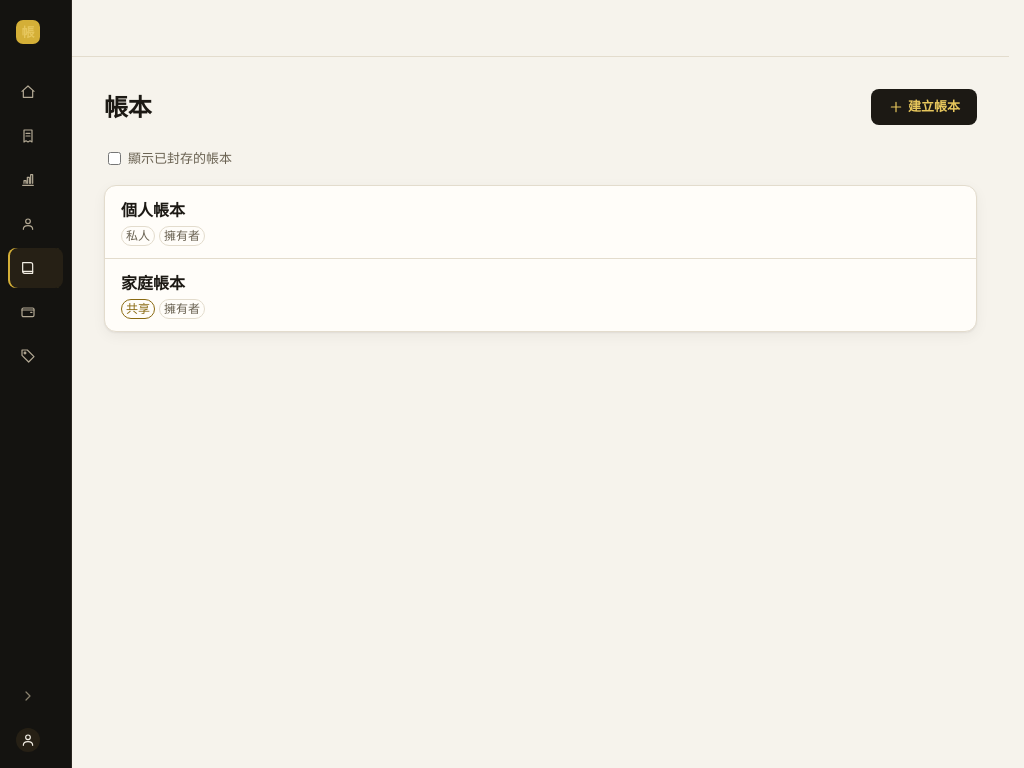
Test case: Ledgers page › keeps the ledger and the dialog when a participant cannot be added
Expected: the link "個人帳本" is shown, x1=121 y1=198 x2=185 y2=220
Click the button "建立帳本": (924, 107) x1=871 y1=89 x2=977 y2=125
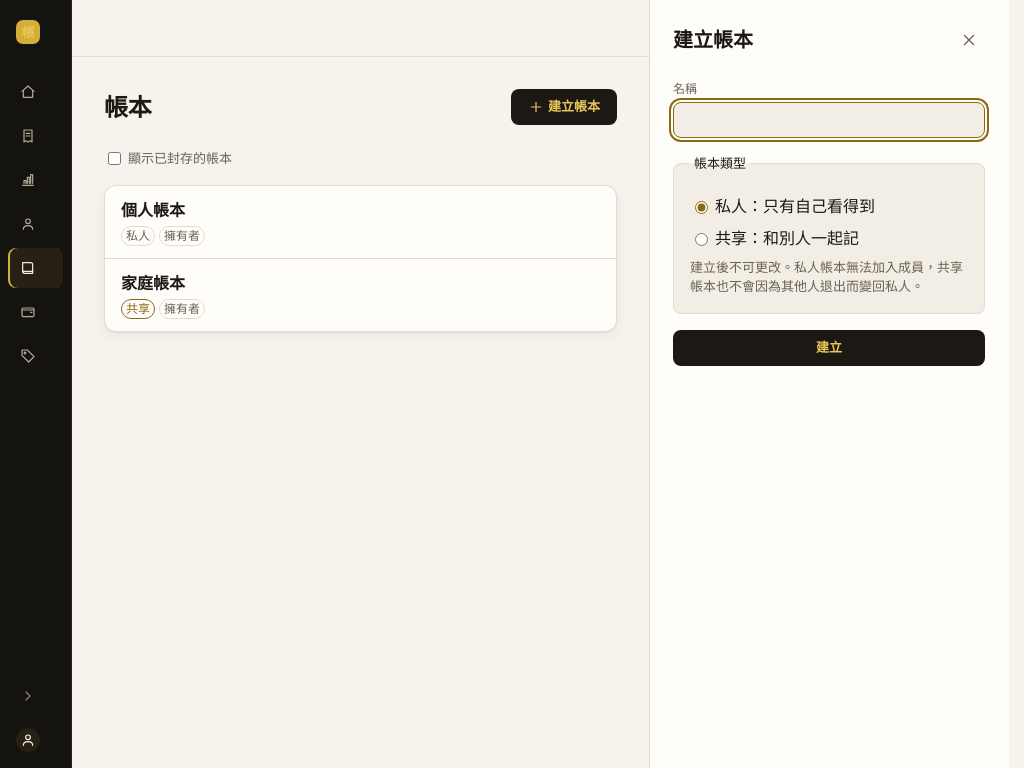
In the field labelled "名稱": (829, 120) x1=673 y1=102 x2=985 y2=138, type "家庭"
Click the radio button labelled "共享：和別人一起記": (702, 239) x1=695 y1=232 x2=708 y2=246
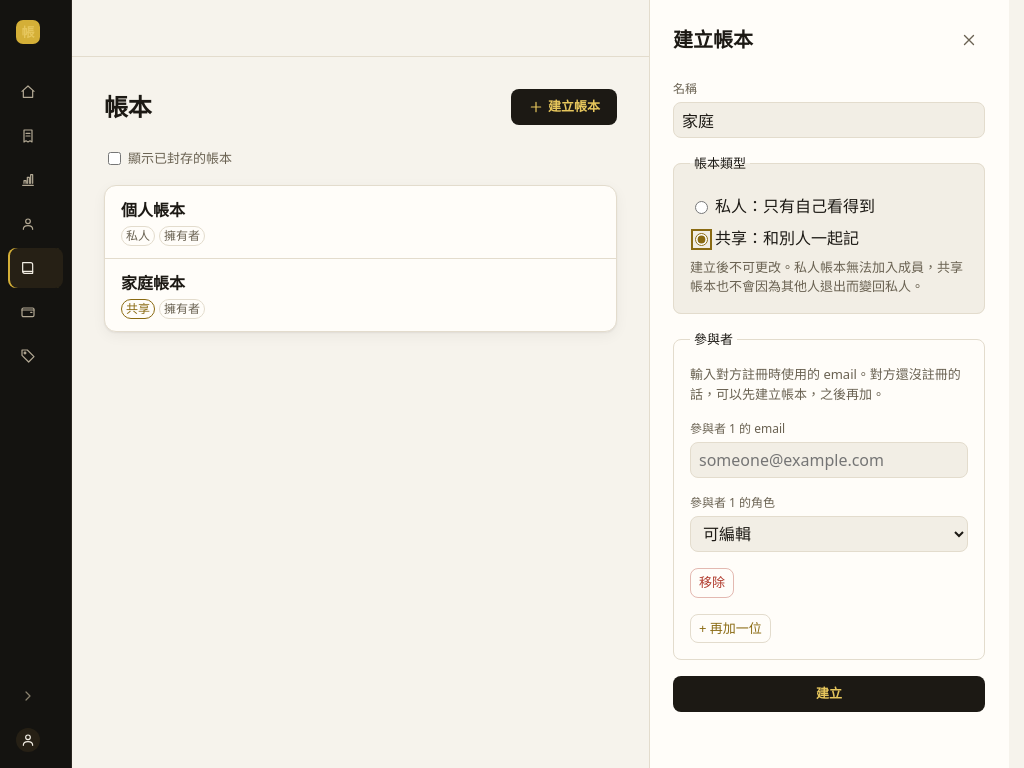
In the field labelled "參與者 1 的 email": (829, 460) x1=690 y1=442 x2=968 y2=478, type "bob@example.com"
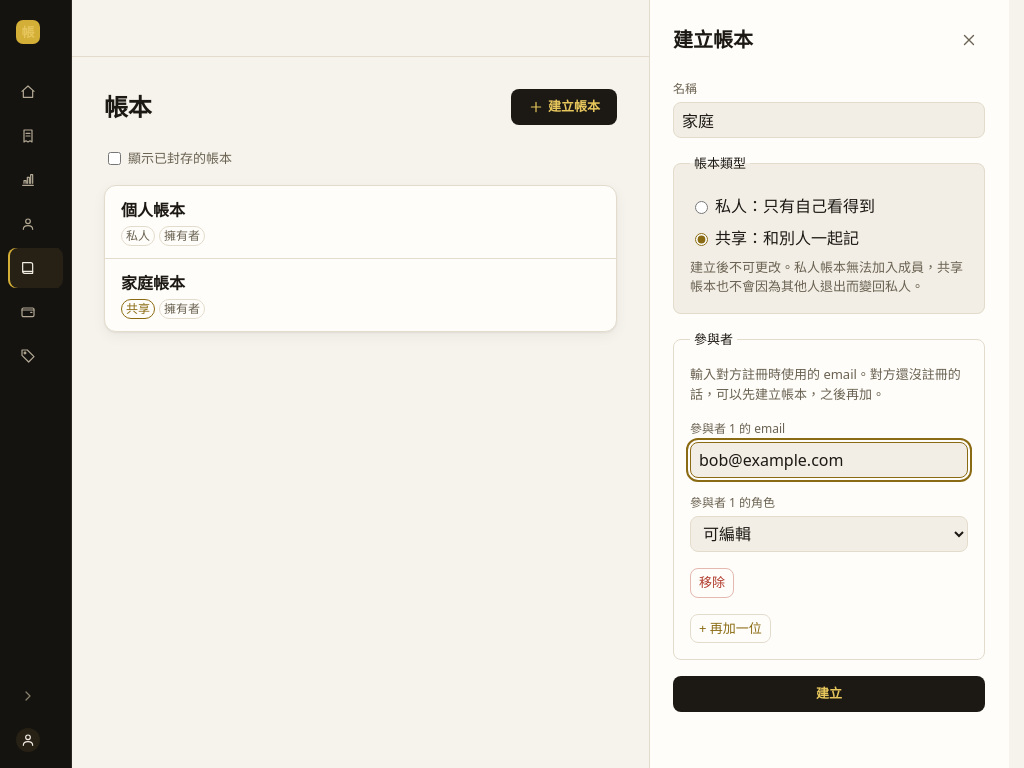
Click the button "+ 再加一位": (730, 628) x1=690 y1=614 x2=771 y2=643
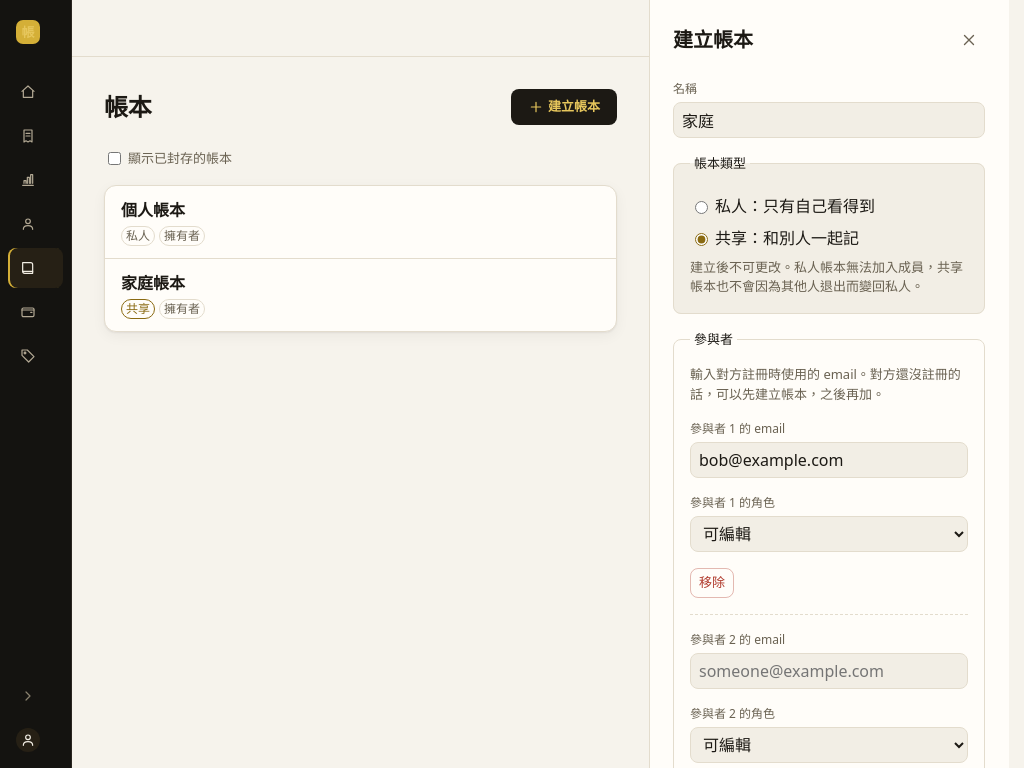
In the field labelled "參與者 2 的 email": (829, 670) x1=690 y1=652 x2=968 y2=688, type "ghost@example.com"
(page scrolled)
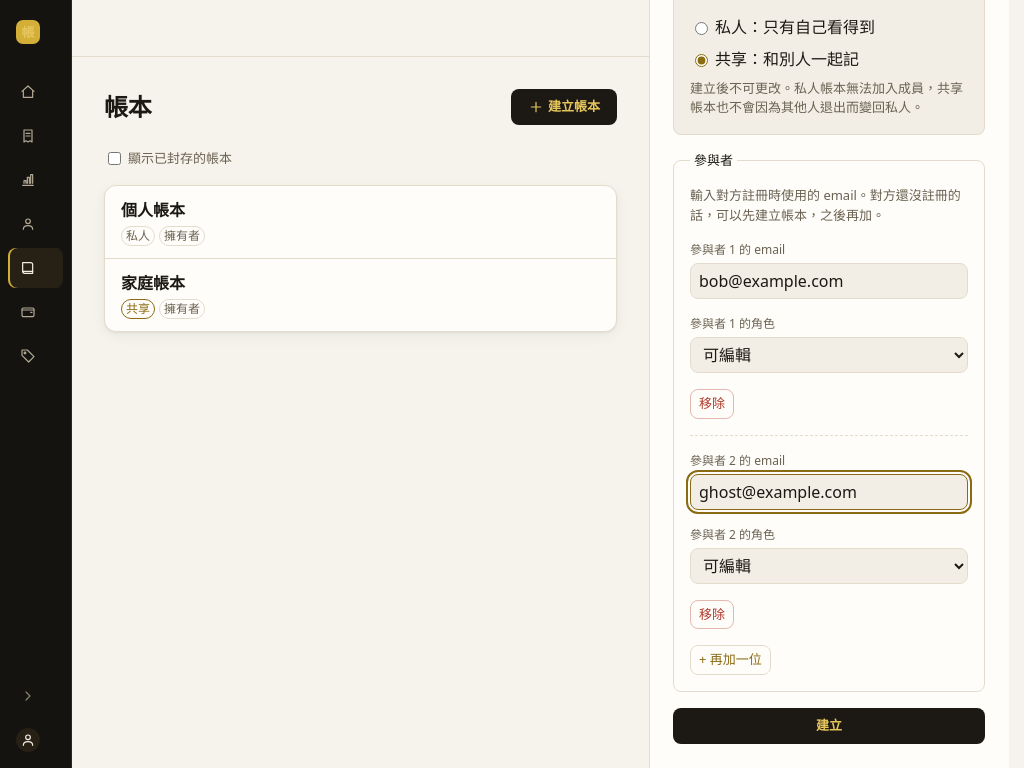
Click the button "建立": (829, 726) x1=673 y1=708 x2=985 y2=744
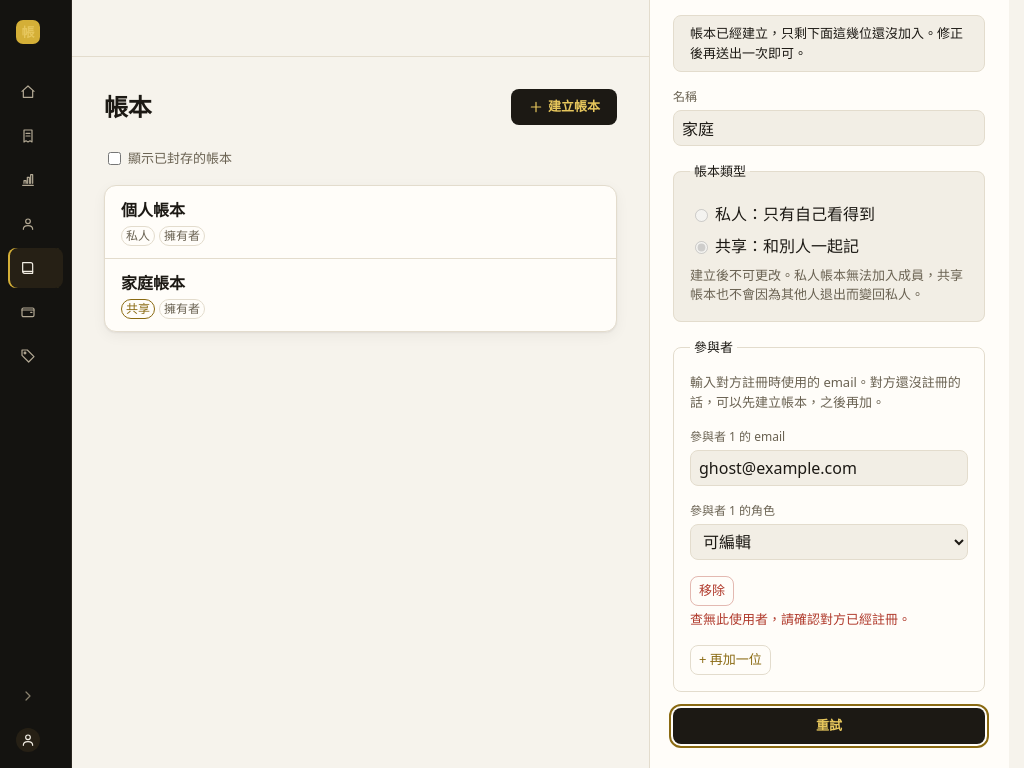
Now the text "帳本已經建立，只剩下面這幾位還沒加入。修正後再送出一次即可。" is shown, box x1=673 y1=15 x2=985 y2=72
Now the text "查無此使用者，請確認對方已經註冊。" is shown, box x1=690 y1=610 x2=911 y2=628
Now the label labelled "參與者 2 的 email" is gone
